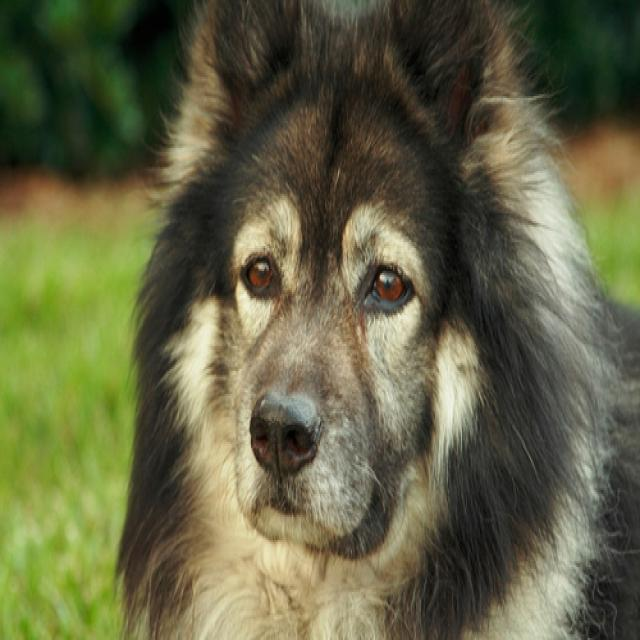dog-keeshond: (108, 2, 637, 636)
